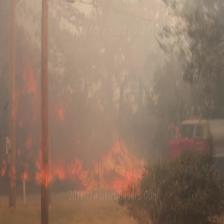fire: (1, 61, 193, 211)
